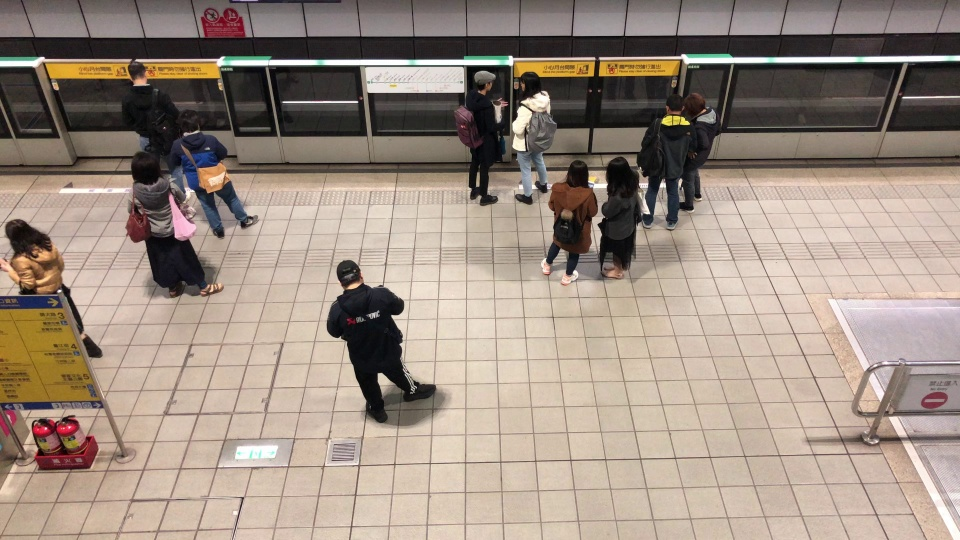person_head: (4, 218, 51, 259), (605, 155, 644, 197), (128, 151, 164, 185), (336, 257, 364, 288), (518, 71, 543, 99), (474, 70, 497, 99), (180, 109, 204, 135), (683, 91, 706, 117), (568, 160, 590, 187), (127, 59, 146, 85), (666, 89, 685, 115)
person_vbox: (326, 258, 436, 424), (127, 149, 225, 298), (0, 217, 102, 356), (169, 110, 259, 240), (120, 62, 190, 203), (644, 87, 698, 229), (541, 159, 597, 285), (466, 70, 510, 206), (510, 71, 549, 204), (600, 156, 640, 281), (679, 90, 718, 213)
